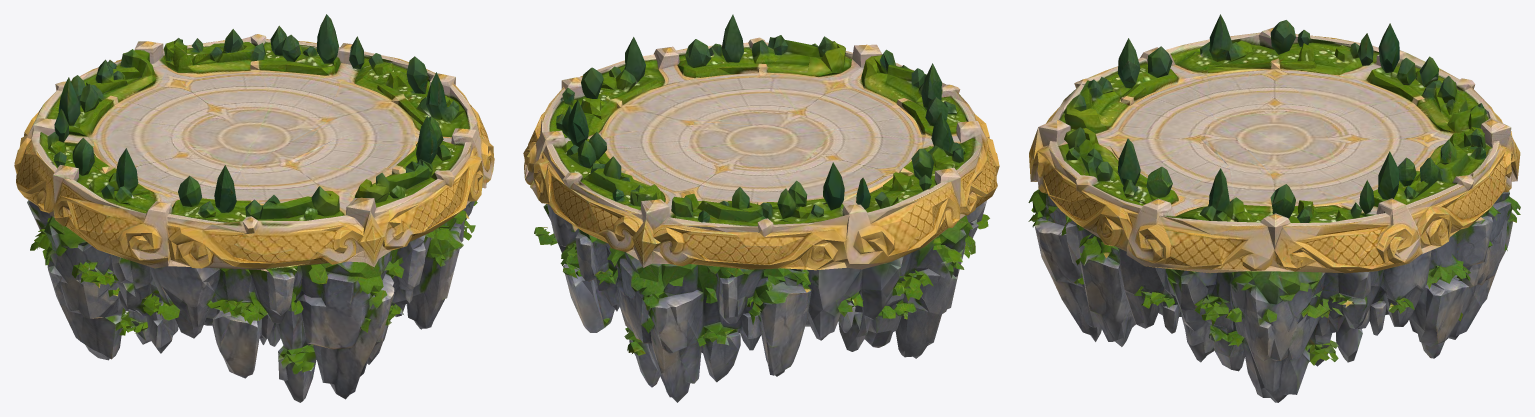
The model's file is isle-king.glb.
3 views of the same model, side by side, from view 1: azimuth 30°, elevation 25°; view 2: azimuth 150°, elevation 25°; view 3: azimuth 270°, elevation 25° (orthographic). The views are drawn at different scales.
Bounding box in the file's own units: 1.88 × 1.09 × 1.9.
1 material, 1 textured.
